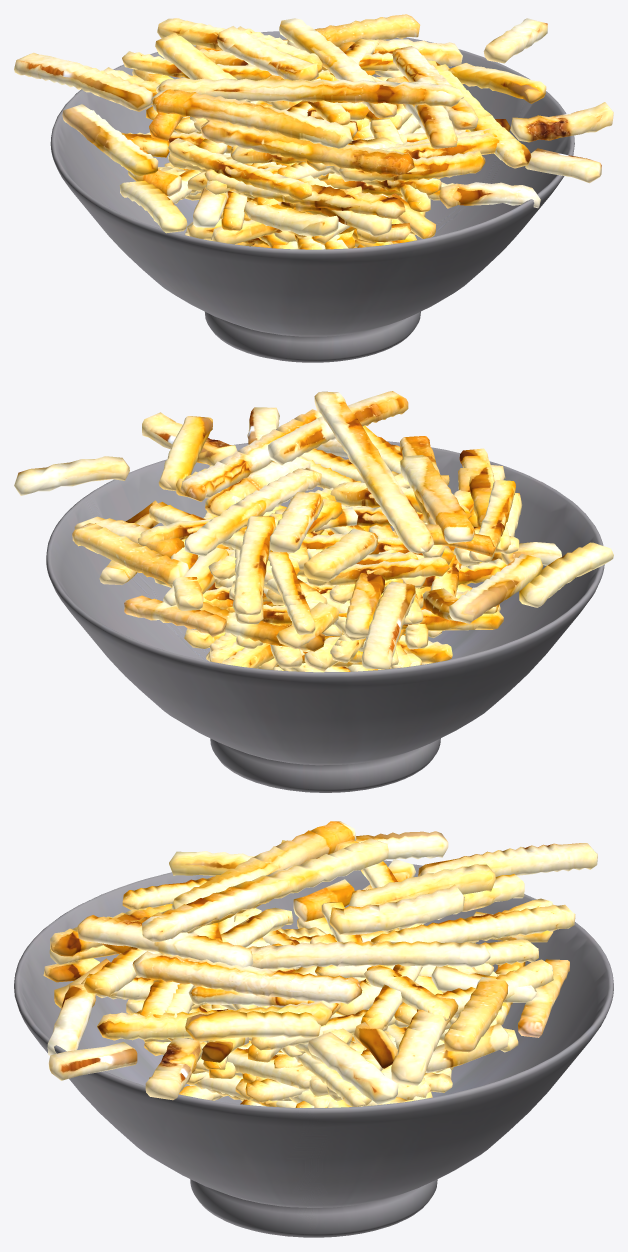
File: batatas-tigela.glb
3 renders of one model, top to bottom at view 1: azimuth 30°, elevation 25°; view 2: azimuth 150°, elevation 25°; view 3: azimuth 270°, elevation 25°, orthographic. The views are drawn at different scales.
Parts seen in each view (by area): view 1: Batatas · reconstrução aproximada por fotografias, Tigela · diâmetro estimado 15 cm; view 2: Batatas · reconstrução aproximada por fotografias, Tigela · diâmetro estimado 15 cm; view 3: Batatas · reconstrução aproximada por fotografias, Tigela · diâmetro estimado 15 cm.
Boxes of the visible parts, <box> form: Batatas · reconstrução aproximada por fotografias: <box>14,14,613,249</box>; Tigela · diâmetro estimado 15 cm: <box>50,31,574,362</box>; Batatas · reconstrução aproximada por fotografias: <box>14,391,613,672</box>; Tigela · diâmetro estimado 15 cm: <box>46,441,604,792</box>; Batatas · reconstrução aproximada por fotografias: <box>43,821,597,1107</box>; Tigela · diâmetro estimado 15 cm: <box>14,860,613,1237</box>.
Size of the model in its own units: 0.1614 by 0.0834 by 0.15.
Materials: 2 (2 with a texture image).
